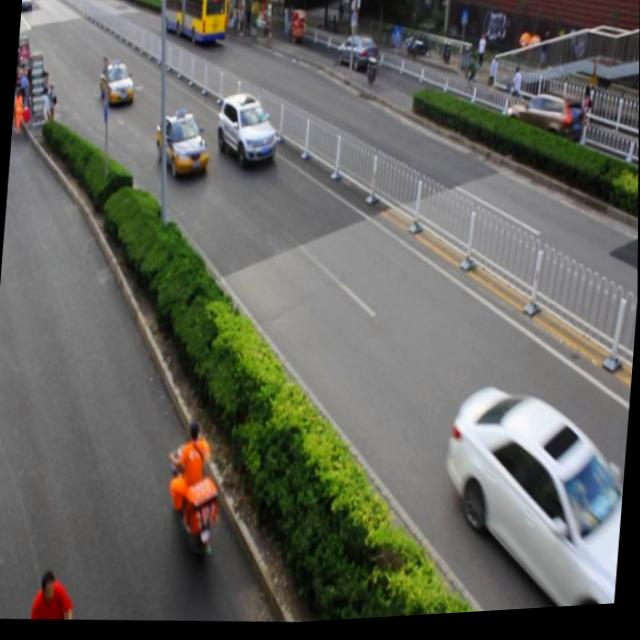car: (435, 380, 631, 620), (500, 90, 585, 165), (213, 94, 280, 175), (152, 109, 212, 186), (98, 62, 136, 111), (334, 37, 378, 75)
van: (158, 0, 228, 52)
